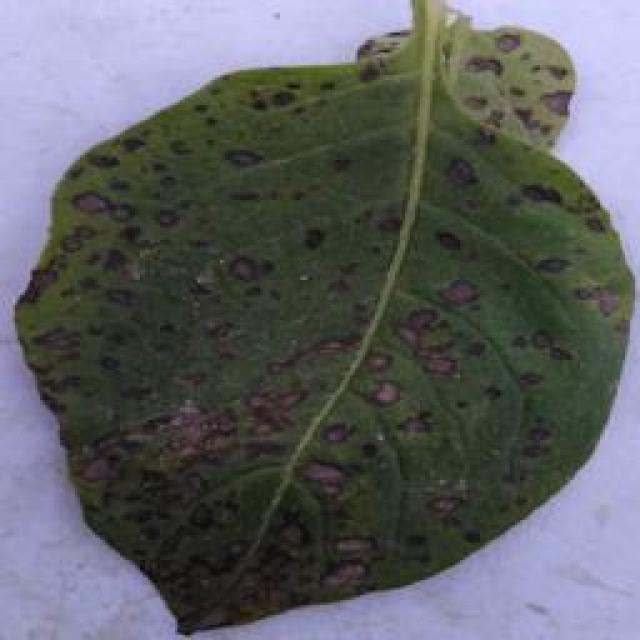Potato_Early_Blight: (5, 14, 638, 640)
